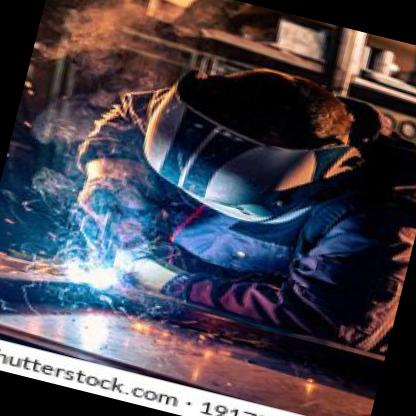Gloves: (67, 152, 171, 250)
